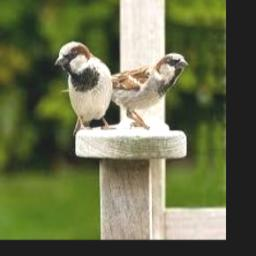Sparrow: (62, 52, 190, 129), (55, 40, 117, 129)
